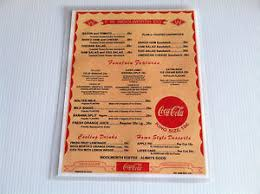coke: (152, 92, 192, 135)
